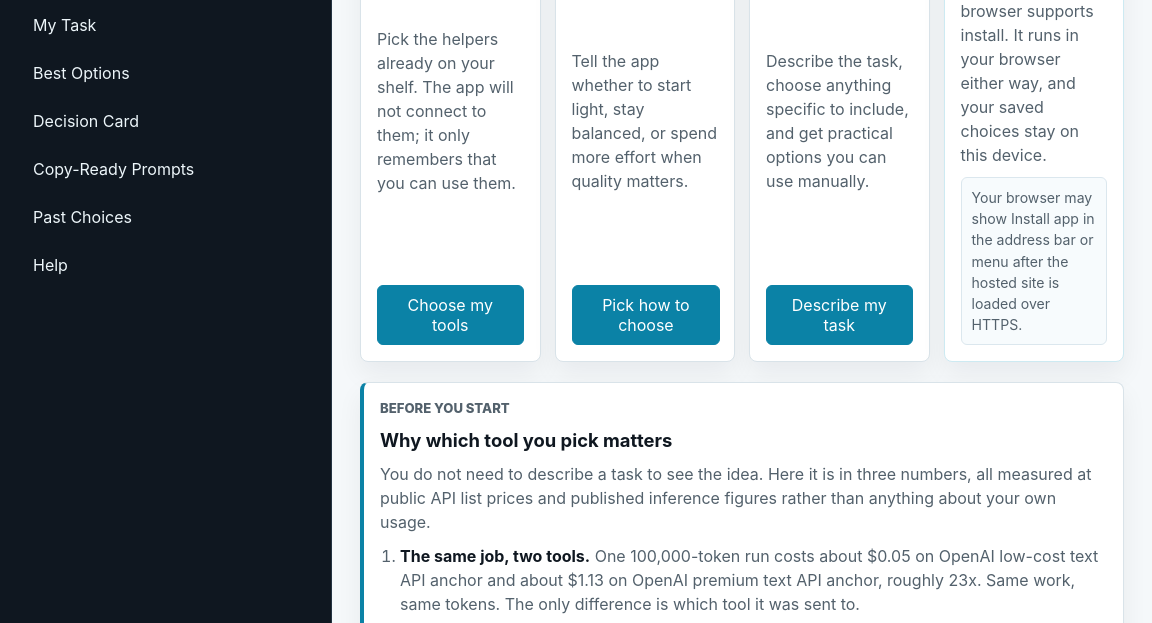
Test: App › answers the basic questions on Help instead of showing developer placeholder copy
(page scrolled)
Click the button "Help" at (50, 265), box [20,244,311,286]
(page scrolled)
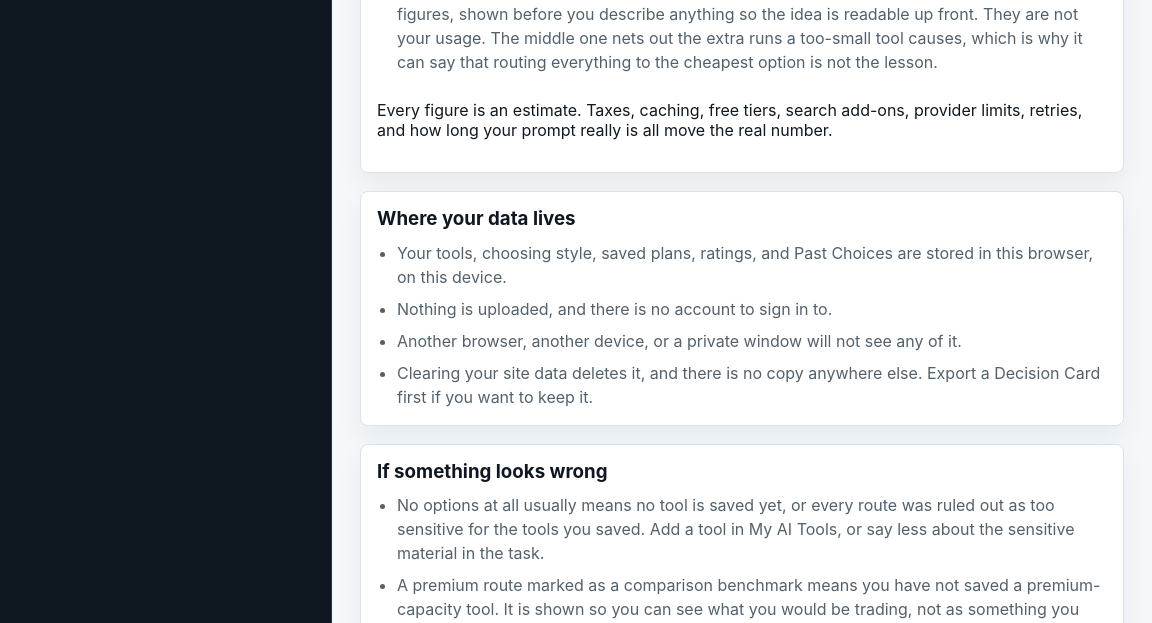
Check: the heading "Where your data lives" is shown, box [377,207,576,230]
Check: the list item "stored in this browser, on this device" is shown, box [397,242,1093,286]
